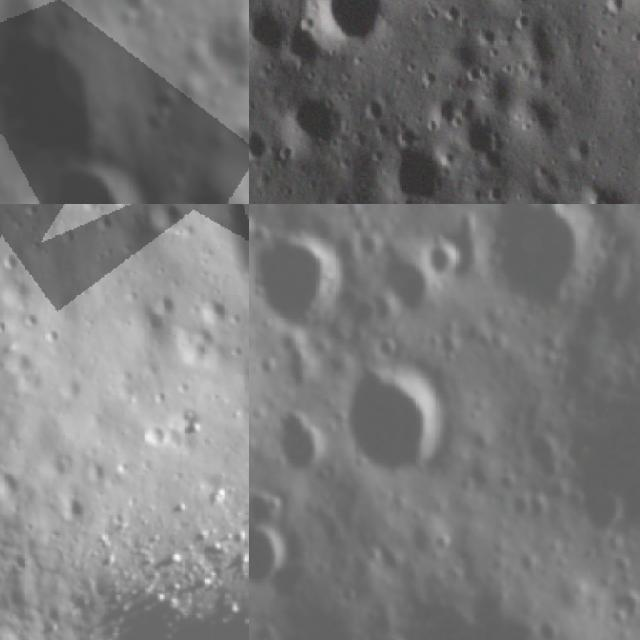crater: (0, 21, 116, 178), (339, 370, 458, 485), (483, 204, 598, 318), (251, 230, 354, 342), (579, 367, 640, 556), (5, 138, 169, 204), (293, 0, 389, 65), (278, 90, 356, 162), (370, 139, 450, 204), (377, 251, 442, 327), (271, 405, 331, 483), (566, 482, 630, 544), (249, 513, 292, 598), (459, 112, 515, 172), (413, 88, 468, 142), (517, 424, 566, 478), (249, 0, 296, 56), (420, 234, 469, 284), (0, 0, 54, 42), (109, 0, 163, 39), (140, 204, 193, 241), (577, 173, 637, 204), (198, 288, 232, 328), (249, 125, 272, 173), (0, 461, 23, 507), (60, 488, 87, 524), (281, 364, 313, 394), (140, 420, 172, 449), (0, 243, 26, 274), (155, 288, 179, 318), (535, 616, 564, 640), (43, 324, 64, 351), (92, 458, 114, 480), (24, 304, 42, 328), (0, 313, 6, 338)
